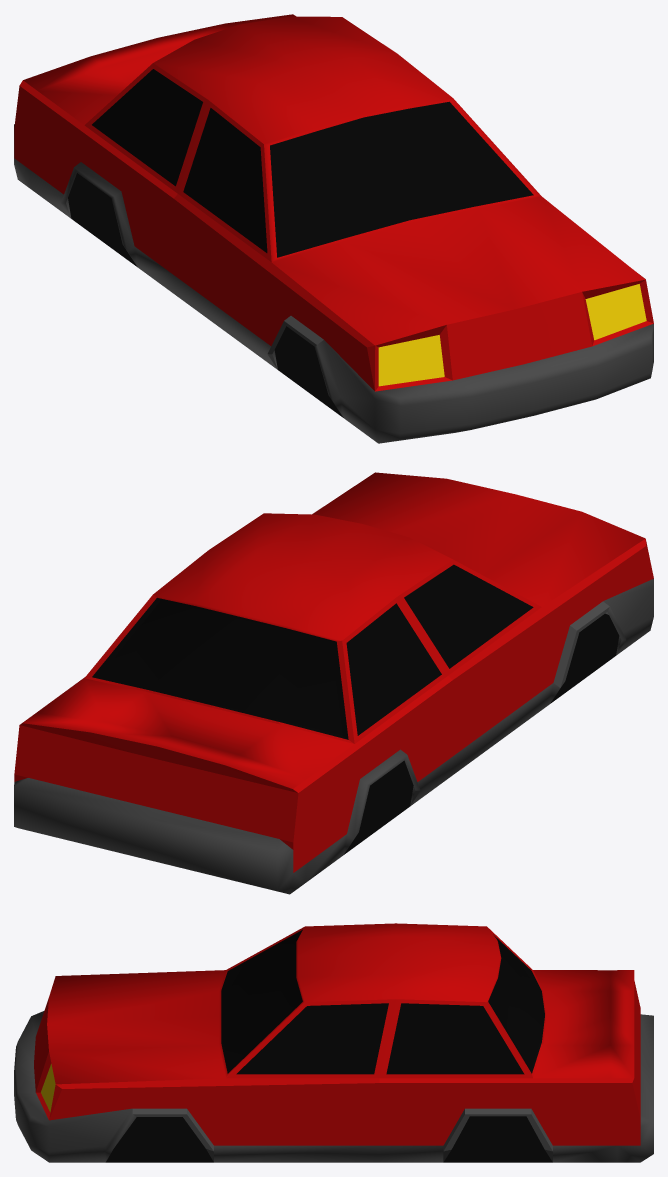
The model's file is carbody.glb.
3 views of the same model, one above another, from view 1: azimuth 30°, elevation 25°; view 2: azimuth 150°, elevation 25°; view 3: azimuth 270°, elevation 25° (orthographic). The views are drawn at different scales.
Parts seen in each view (by area): view 1: car; view 2: car; view 3: car.
Boxes of the visible parts, x1,y1,x2,y2 form: car: (14,14,653,443); car: (14,472,653,894); car: (14,923,653,1162).
Bounding box in the file's own units: 2.1 × 1.29 × 4.84.
